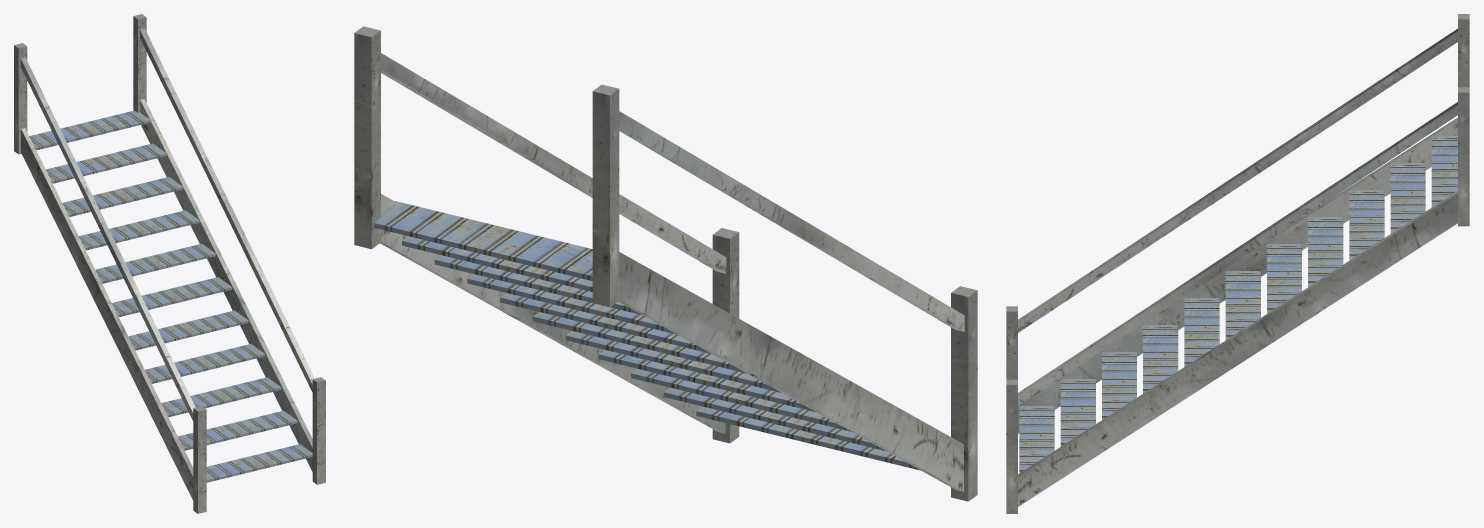
File: STB0110005.FBX
3 renders of one model, left to right at view 1: azimuth 30°, elevation 25°; view 2: azimuth 150°, elevation 25°; view 3: azimuth 270°, elevation 25°, orthographic. The views are drawn at different scales.
Parts seen in each view (by area): view 1: smSTB0110005; view 2: smSTB0110005; view 3: smSTB0110005.
Boxes of the visible parts, x1,y1,x2,y2 form: smSTB0110005: (14,14,325,513); smSTB0110005: (354,26,977,501); smSTB0110005: (1006,14,1469,513).
Size of what is drawn, in the model's own units: 1.66 by 4.16 by 4.14.
1 material, 1 textured.
